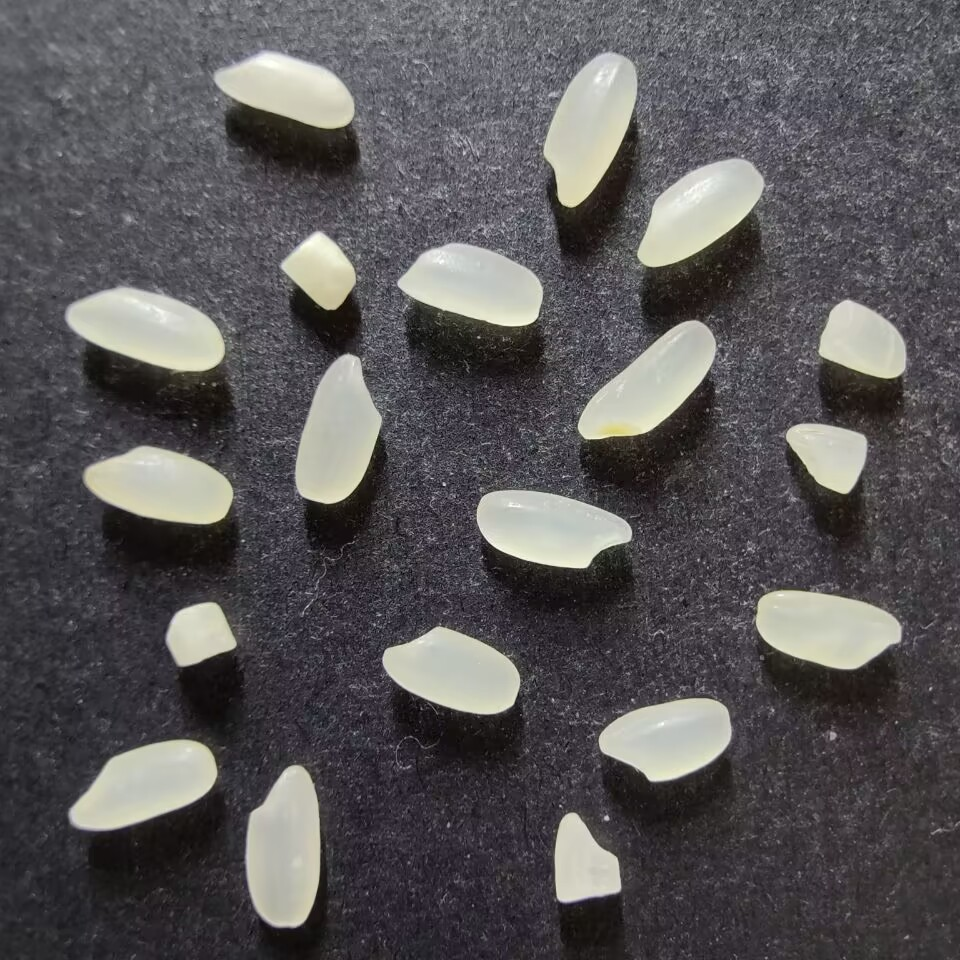broken: (817, 299, 907, 379), (553, 811, 621, 902), (280, 231, 357, 311), (785, 422, 868, 495), (165, 602, 237, 666)
rice: (577, 319, 716, 440), (542, 52, 637, 208), (635, 157, 764, 267), (64, 286, 225, 372), (68, 739, 217, 831), (294, 353, 382, 504), (475, 489, 632, 569), (245, 763, 321, 928), (396, 242, 543, 327), (381, 625, 519, 715), (83, 445, 232, 525), (755, 590, 902, 670), (597, 698, 732, 783), (213, 52, 355, 129)
